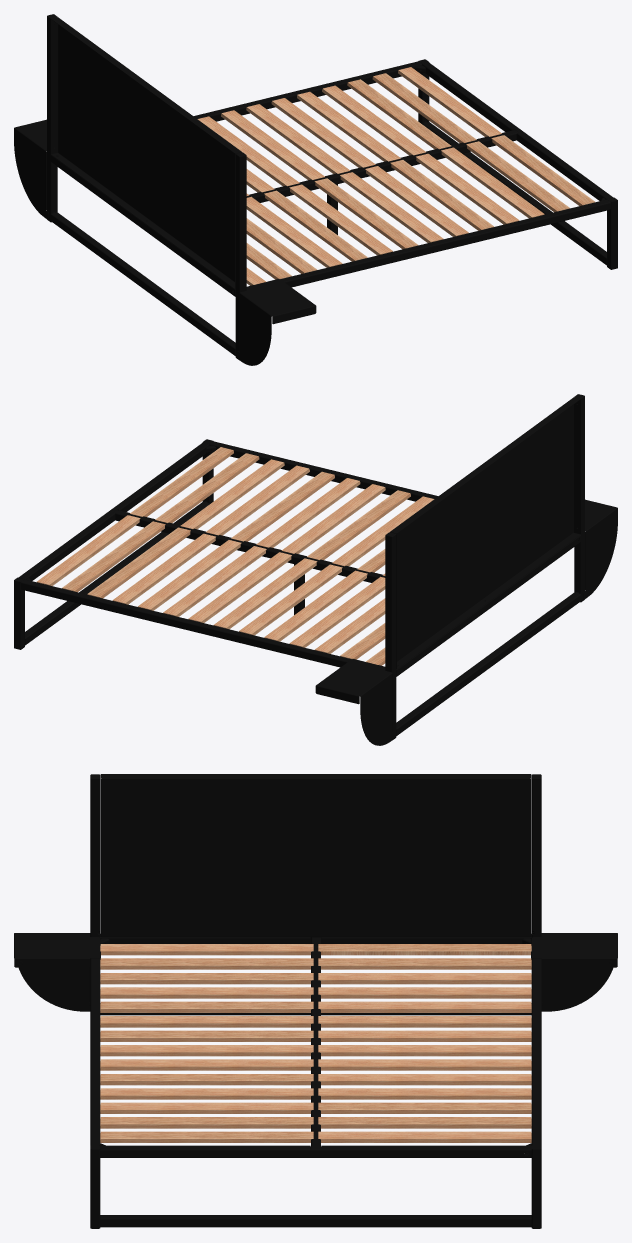
Rendered from Bedframe01_Textured_v3.glb.
3 views of the same model, one above another, from view 1: azimuth 30°, elevation 25°; view 2: azimuth 150°, elevation 25°; view 3: azimuth 270°, elevation 25° (orthographic). The views are drawn at different scales.
Parts seen in each view (by area): view 1: Solid22, Solid55, Solid24, Solid17, Solid10, Solid6, Solid1, Solid25, Solid41, Solid47, Solid61, Solid12 (+23 smaller); view 2: Solid22, Solid6, Solid47, Solid17, Solid10, Solid55, Solid51, Solid25, Solid41, Solid24, Solid48, Solid7 (+23 smaller); view 3: Solid22, Solid41, Solid10, Solid6, Solid55, Solid59, Solid7, Solid9, Solid11, Solid12, Solid13, Solid14 (+30 smaller).
Part boxes in pixels (x1,y1,x2,y2): Solid22: (51,17,241,289); Solid55: (237,279,316,365); Solid24: (280,199,610,287); Solid17: (50,212,235,355); Solid10: (422,62,613,200); Solid6: (14,119,48,219); Solid1: (235,155,246,357); Solid25: (246,130,518,202); Solid41: (422,121,606,265); Solid47: (193,61,422,121); Solid61: (340,172,443,242); Solid12: (416,153,519,224); Solid22: (390,397,580,669); Solid6: (315,659,394,745); Solid47: (21,579,351,667); Solid17: (396,592,581,735); Solid10: (18,442,209,580); Solid55: (583,499,617,599); Solid51: (385,535,396,737); Solid25: (113,510,385,582); Solid41: (25,501,209,645); Solid24: (209,441,438,501); Solid48: (188,552,291,622); Solid7: (112,533,215,604); Solid22: (100,774,531,937); Solid41: (100,1215,531,1227); Solid10: (99,1145,532,1157); Solid6: (531,933,617,1011); Solid55: (14,933,100,1011); Solid59: (100,934,531,945); Solid7: (318,1088,531,1099); Solid9: (318,1074,531,1085); Solid11: (100,958,313,969); Solid12: (100,1088,313,1099); Solid13: (318,973,531,984); Solid14: (100,1102,313,1113).
Size of the model in its own units: 2.04 by 1.05 by 2.41.
Materials: 3 (2 with a texture image).
